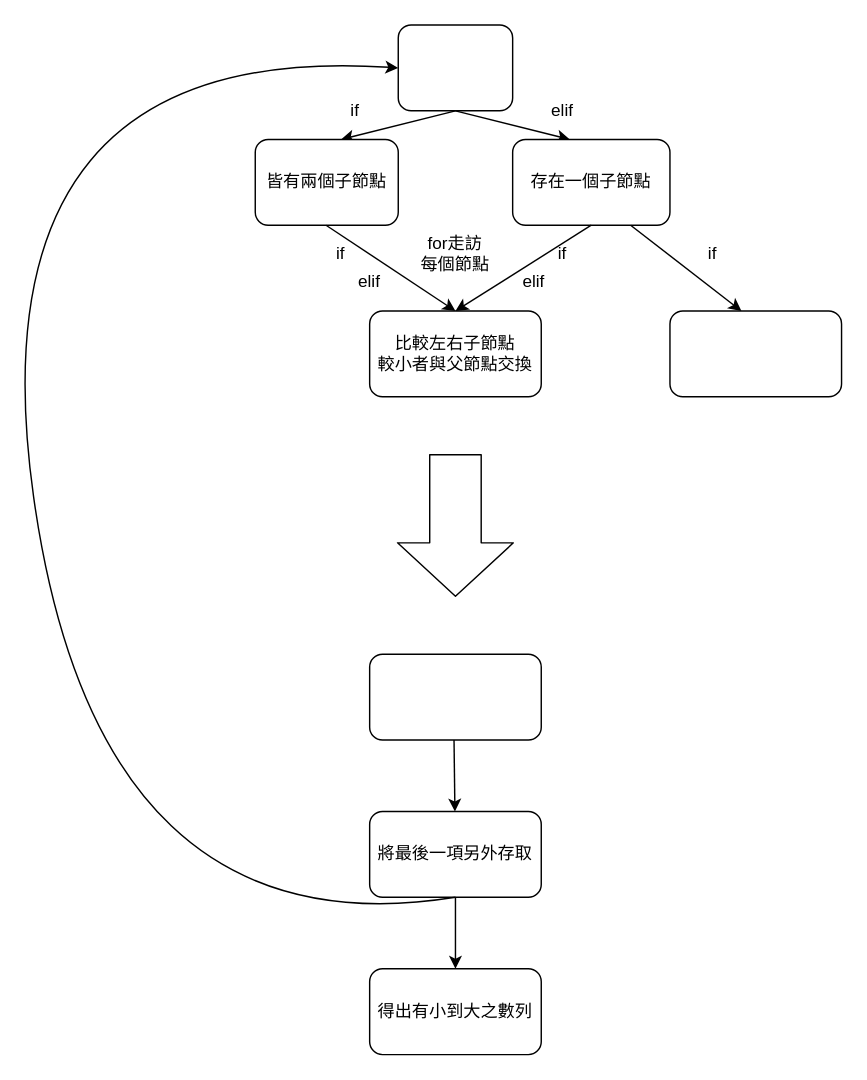
The diagram is 867 pixels wide and 1080 high, and some of its shapes have lost their labels. Each missing label, with the centre of its shape:
"heap_sort" belongs at point (454, 696).
"Minheap" belongs at point (455, 67).
"此一子節點若比其父節點小，則交換" belongs at point (755, 353).
